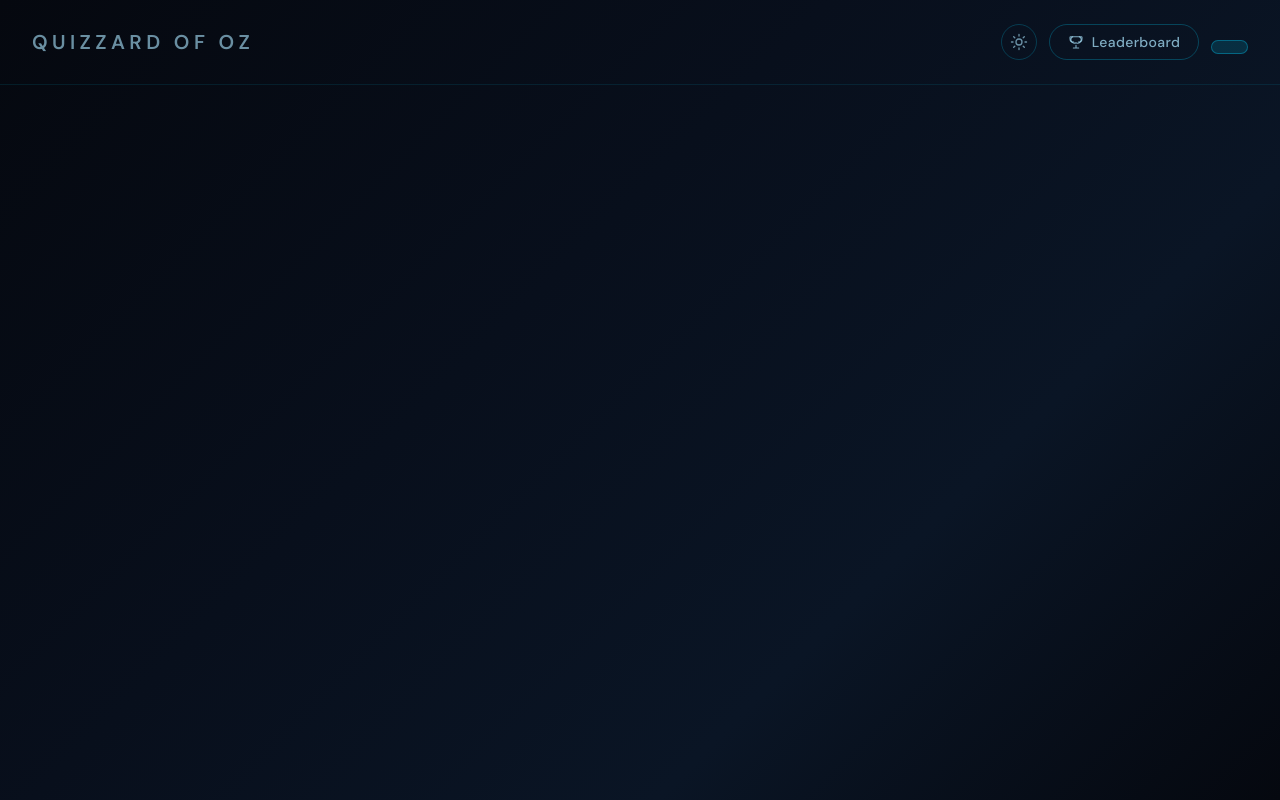
Test case: Navbar – battle leave guard (isBattle = true) › shows the leave dialog when the Leaderboard link is clicked
What coordinates should you click on to do the following:
click the link "Leaderboard"
I would click on:
 (1124, 42)
Its box is [1049,24,1199,60].
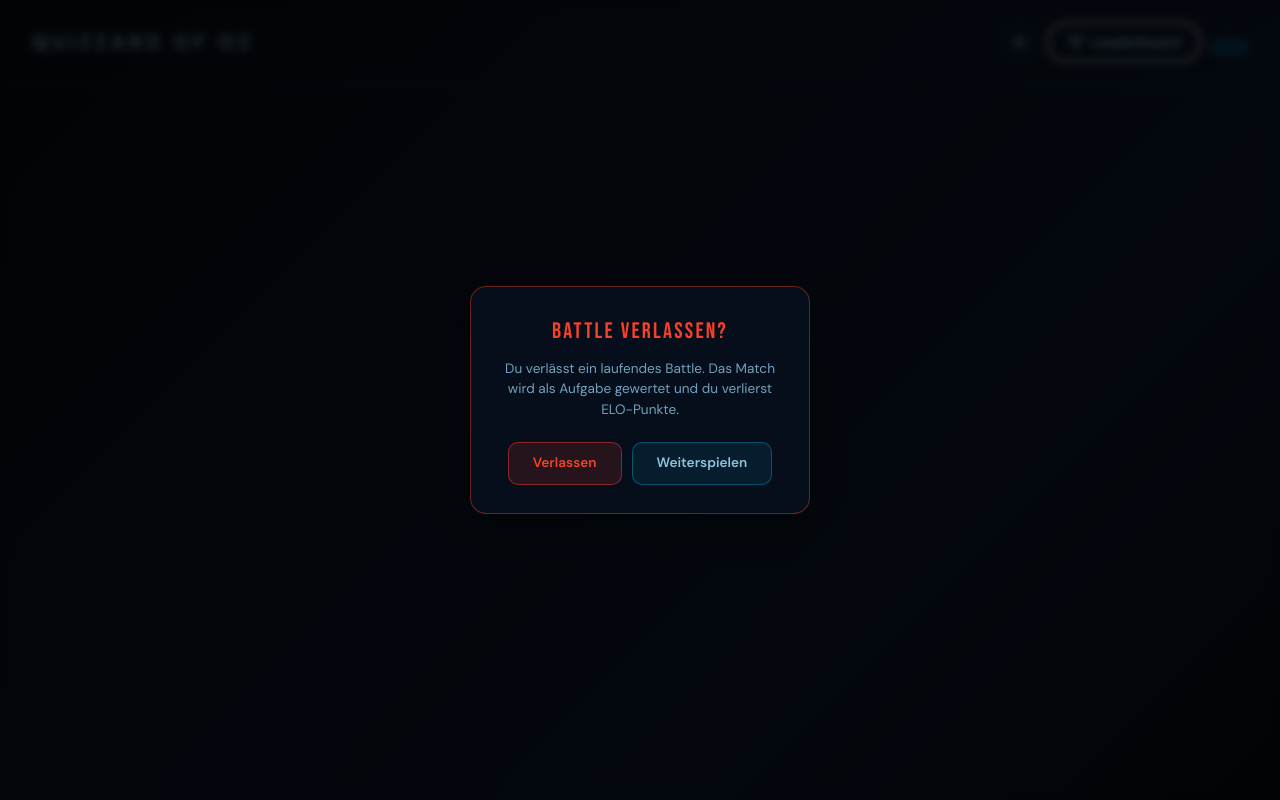
Expected: the dialog "Battle verlassen" is shown
